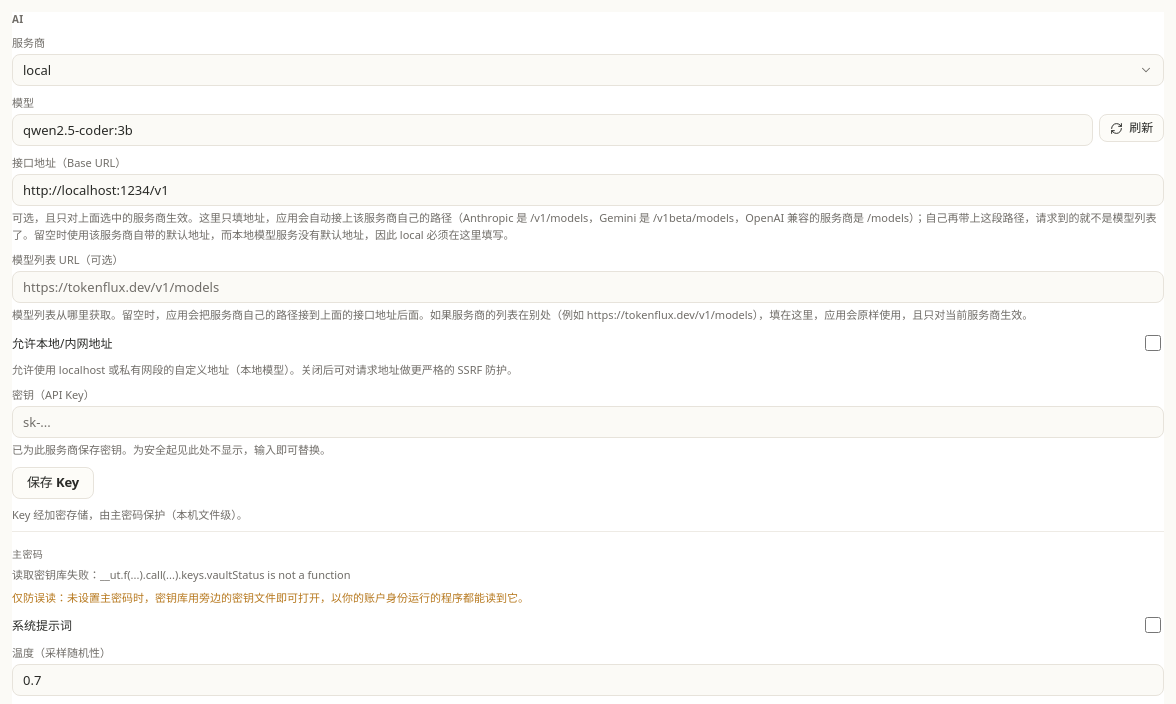
the AI section’s stored-key affordance › lets the user type a replacement into the configured field
The image size is (1176, 704).
expect the text "已为此服务商保存密钥。为安全起见此处不显示，输入即可替换。" is shown: met, box [12, 442, 331, 457]
Type "sk-replacement" into the password field labelled "密钥（API Key） 已为此服务商保存密钥。为安全起见此处不显示，输入即可替换。".
click(588, 422); type("sk-replacement")  # box [12, 406, 1164, 438]
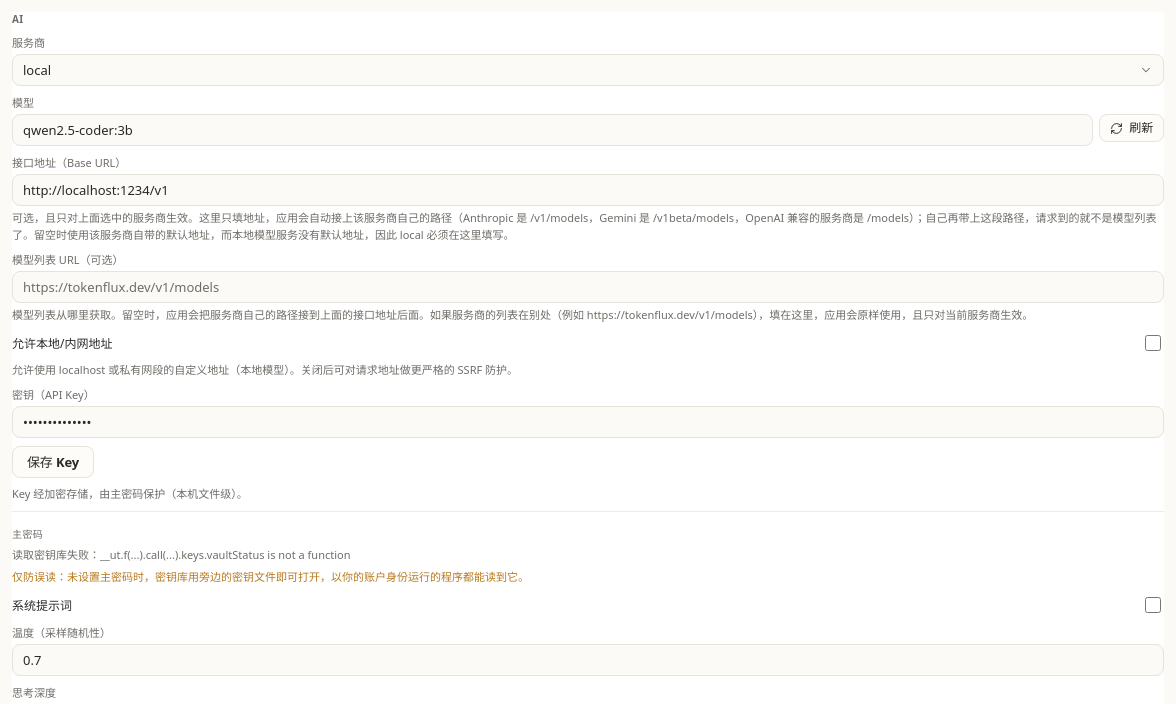
expect the text with test id "ai-key-set" is gone: met
